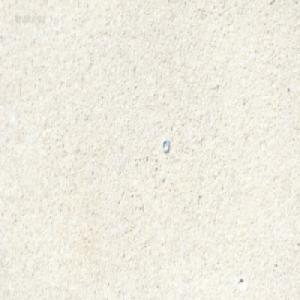Washer: (162, 138, 169, 153)
